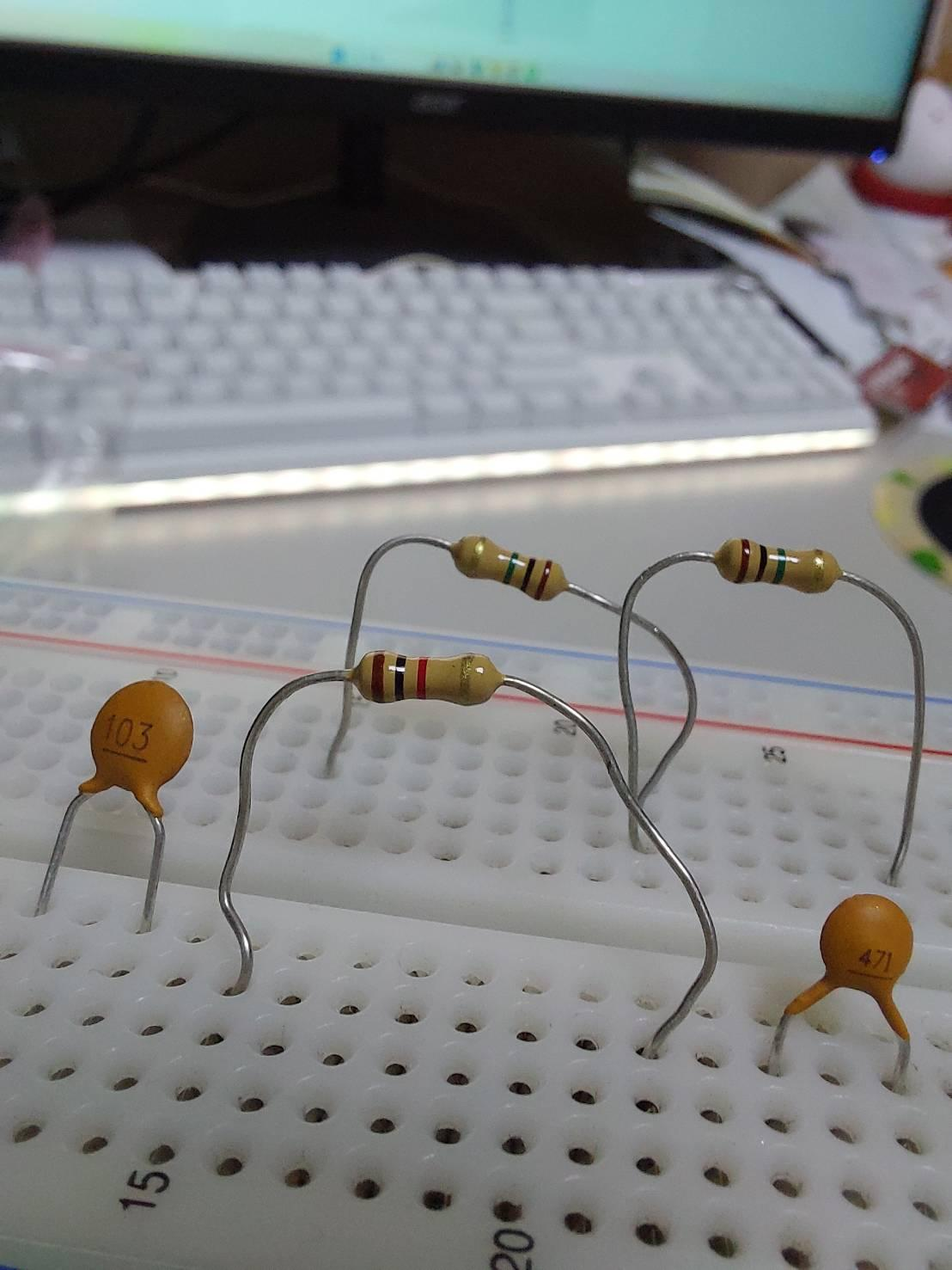resistor: (453, 525, 568, 606), (351, 647, 495, 709), (722, 533, 842, 593)
